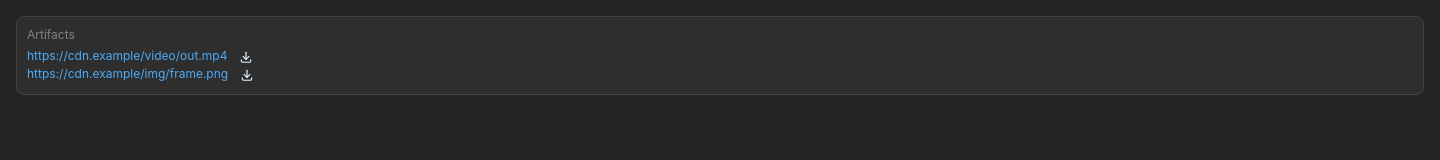
Test case: ConversationView artifact export (#84) › a failed export renders the loud red error row
Click the button with test id "download-artifact" next to "https://cdn.example/video/out.mp4".
click(246, 57)  # box [237,48,255,66]
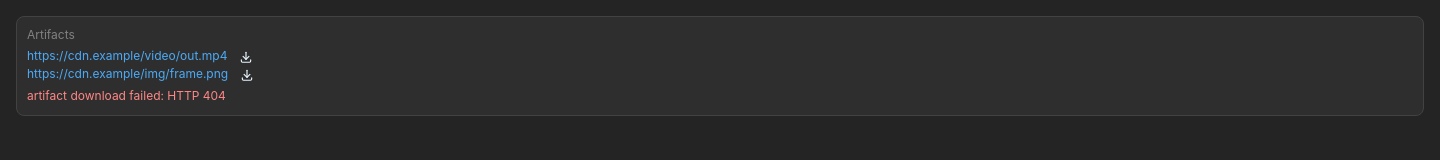
Result: the text with test id "export-error" shows "HTTP 404" at [27,88,226,103]
